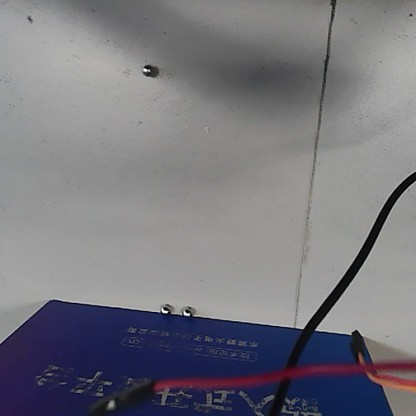ironball: (179, 302, 197, 318), (158, 298, 171, 315), (142, 62, 153, 78)
